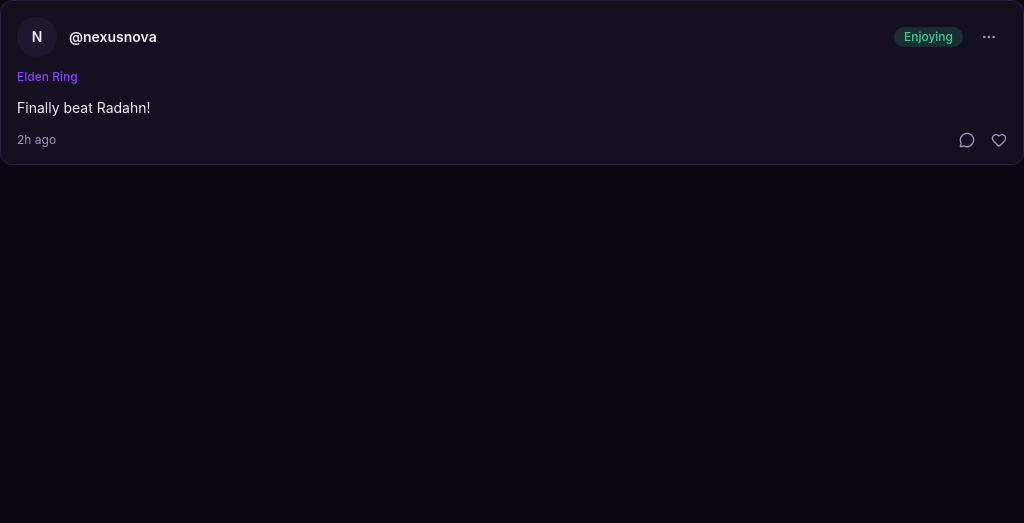
Test: PostCard — edit mode › Cancel in edit mode returns to read state
This screenshot has width=1024, height=523.
Click the button named "post options" at x=989, y=37, box [971,19,1007,55]
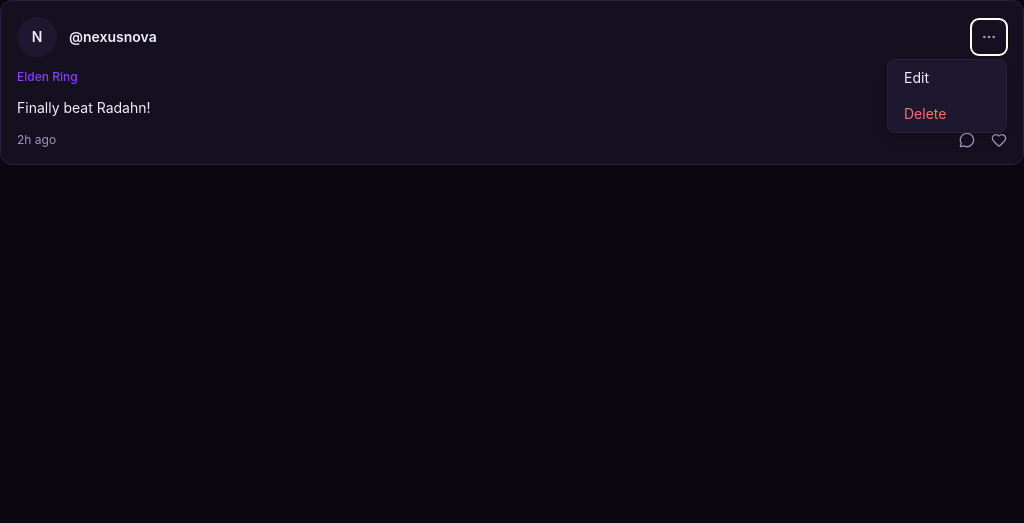
Click the button "Edit" at x=947, y=78, box [888,60,1006,96]
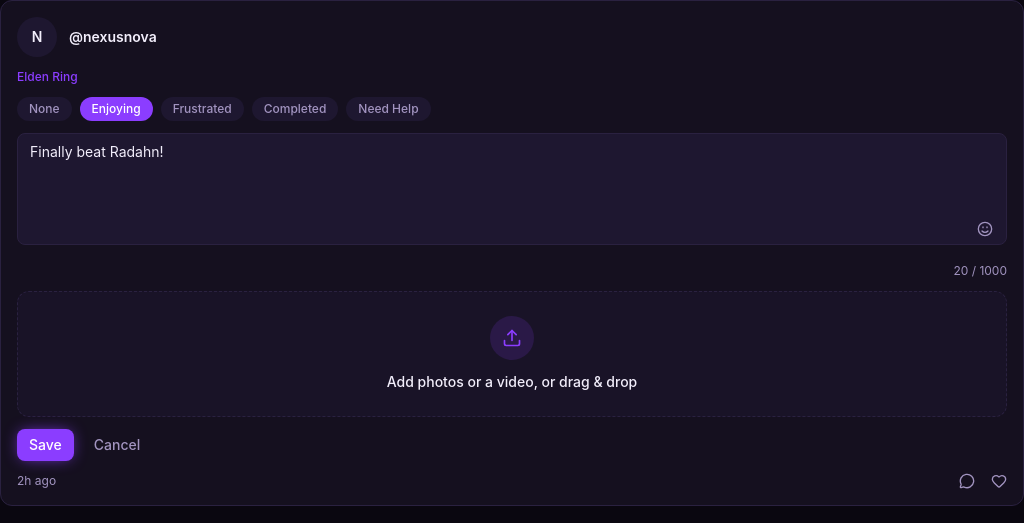
Click the button "Cancel" at x=117, y=445, box [82,429,152,461]
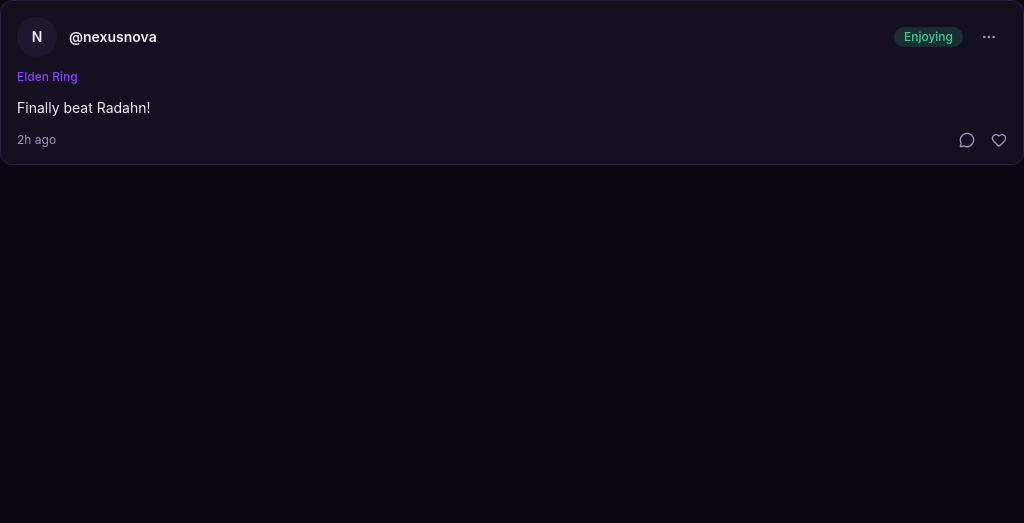
Now the text "Finally beat Radahn!" is shown, box [17,99,150,116]
